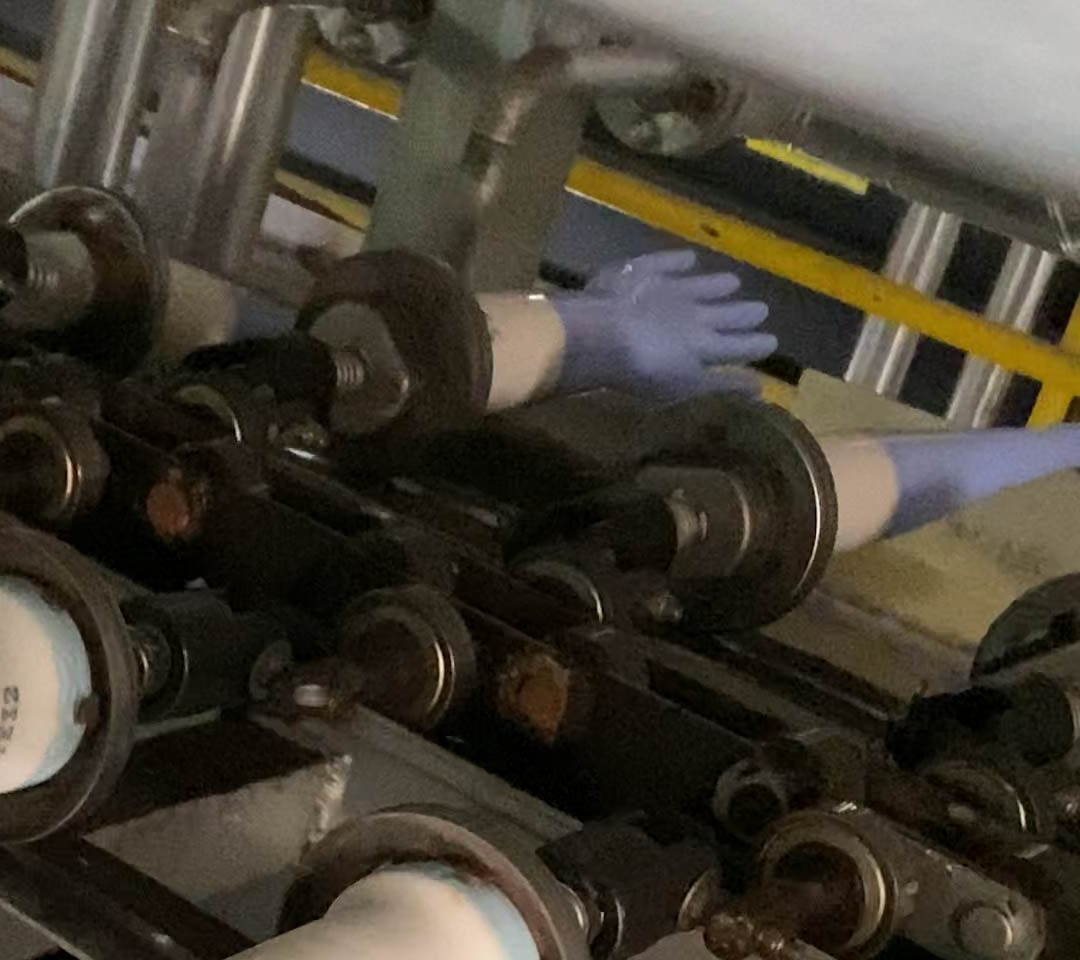glove: (537, 244, 777, 405)
